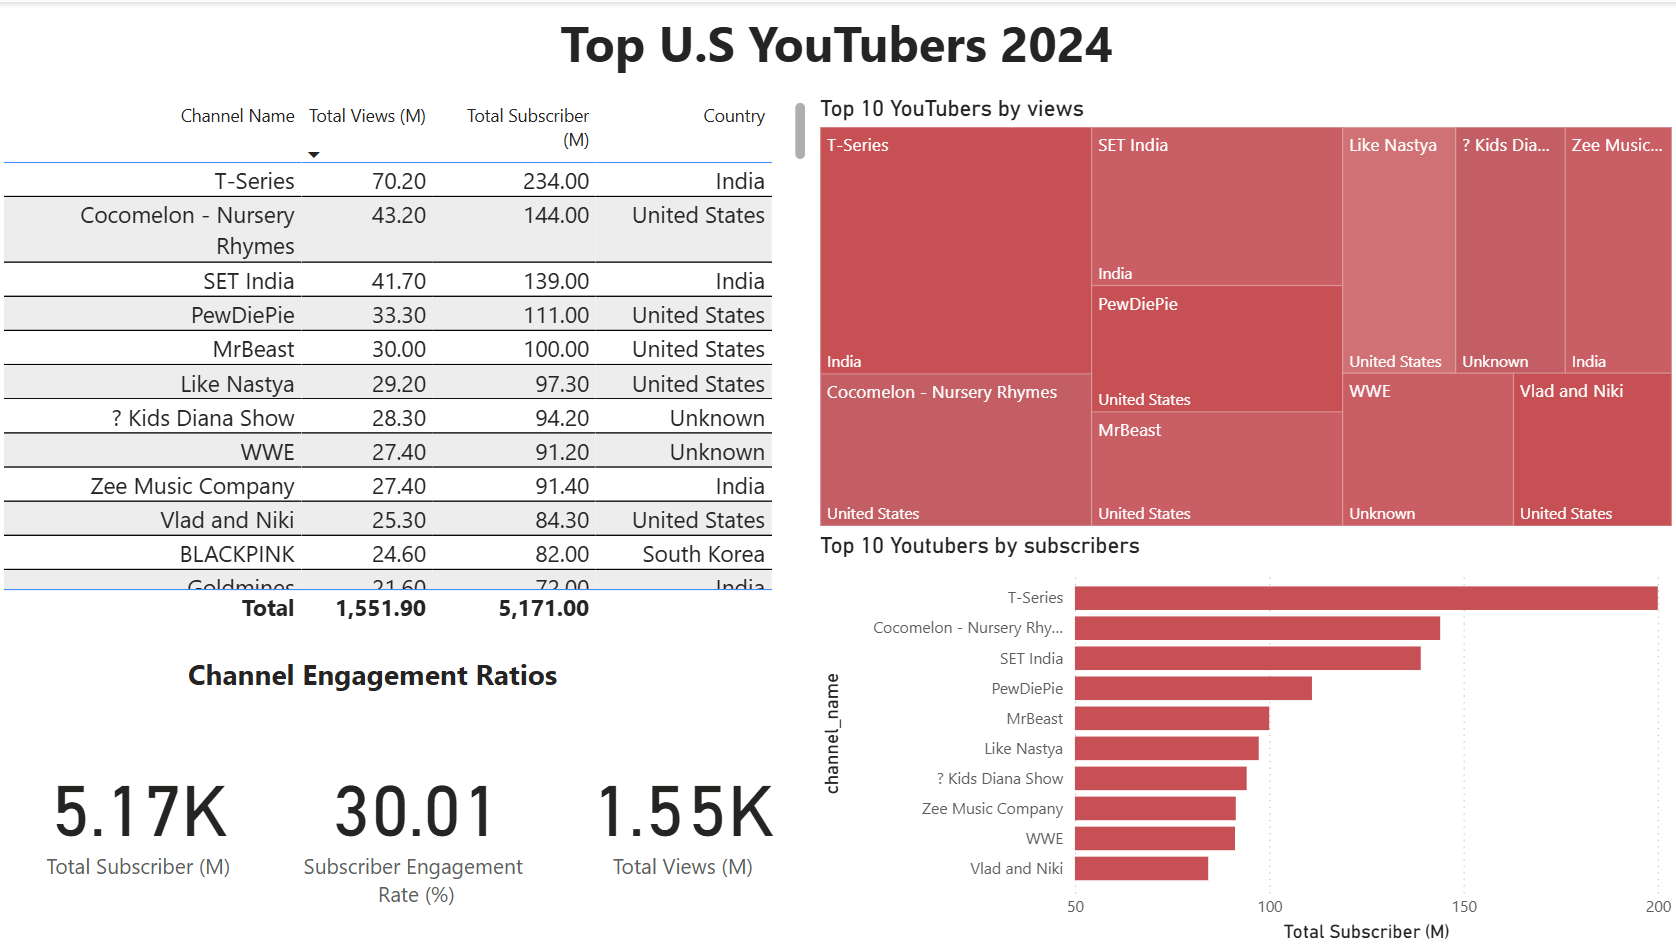

This screenshot's page, from the dashboard's own definition file:
{"tool":"powerbi","page":{"name":"Page 1","canvas":[1280,720],"ordinal":0},"visuals":[{"type":"textbox","box":[0,0,1280.4,60.7],"z":0},{"type":"card","fields":{"Values":["view_us_youtubers_2024.Total Subscriber (M)"]},"box":[0,518.7,216.2,201.7],"z":1000},{"type":"tableEx","fields":{"Values":["view_us_youtubers_2024.channel_name","view_us_youtubers_2024.Total Views (M)","view_us_youtubers_2024.Total Subscriber (M)","view_us_youtubers_2024.country"]},"box":[0,70.5,622,407],"z":2000},{"type":"treemap","title":"Top 10 YouTubers by views","fields":{"Group":["view_us_youtubers_2024.channel_name"],"Details":["view_us_youtubers_2024.country"],"Values":["view_us_youtubers_2024.Total Subscriber (M)"]},"box":[622,70.5,658.4,332.9],"z":3000},{"type":"card","fields":{"Values":["view_us_youtubers_2024.Subscriber Engagement Rate (%)"]},"box":[216.2,518.7,207.7,201.7],"z":4000},{"type":"card","fields":{"Values":["view_us_youtubers_2024.Total Views (M)"]},"box":[424,518.7,198,201.7],"z":5000},{"type":"clusteredBarChart","title":"Top 10 Youtubers by subscribers","fields":{"Category":["view_us_youtubers_2024.channel_name"],"Y":["view_us_youtubers_2024.Total Subscriber (M)"]},"box":[622,403.3,658.4,317.1],"z":6000},{"type":"textbox","box":[123.9,490.8,326.8,54.7],"z":7000}]}

Visuals, with their boxes in screenshot pixels (x1, y1, x2, y2), scaled from the page's 1280x720 canvas onto the 1676x947 screenshot:
textbox: (x1=0, y1=0, x2=1675, y2=80)
card - view_us_youtubers_2024.Total Subscriber (M): (x1=0, y1=682, x2=283, y2=946)
tableEx - view_us_youtubers_2024.channel_name x view_us_youtubers_2024.Total Views (M): (x1=0, y1=93, x2=814, y2=628)
"Top 10 YouTubers by views" treemap: (x1=814, y1=93, x2=1675, y2=531)
card - view_us_youtubers_2024.Subscriber Engagement Rate (%): (x1=283, y1=682, x2=555, y2=946)
card - view_us_youtubers_2024.Total Views (M): (x1=555, y1=682, x2=814, y2=946)
"Top 10 Youtubers by subscribers" clusteredBarChart: (x1=814, y1=530, x2=1675, y2=946)
textbox: (x1=162, y1=646, x2=590, y2=717)
